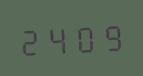four: (44, 21, 69, 56)
nine: (96, 18, 121, 53)
two: (18, 22, 43, 57)
zero: (70, 20, 95, 54)
